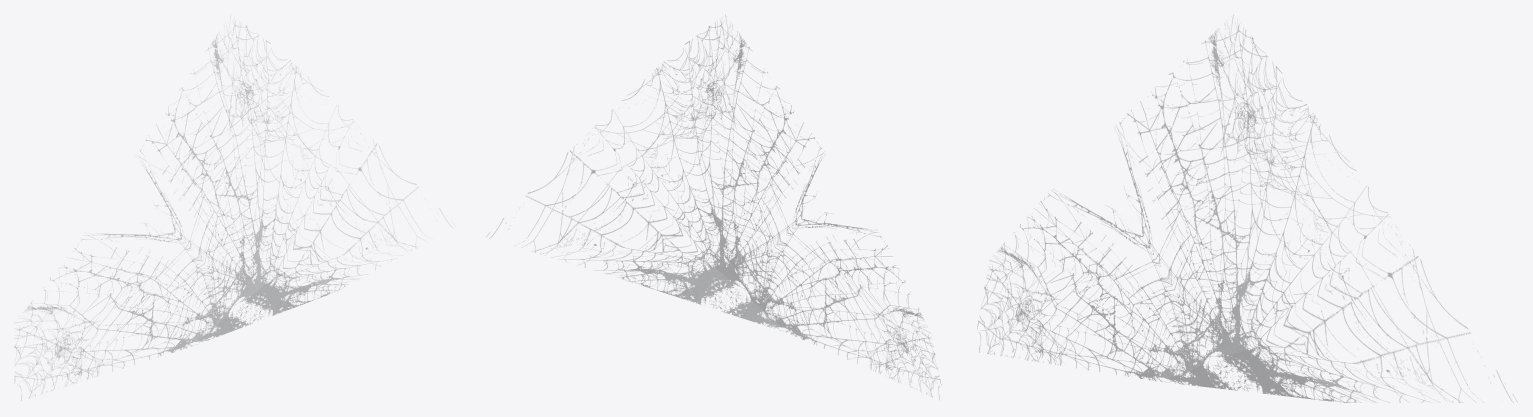
Rendered from SM_CobWeb.009.fbx.
3 renders of one model, left to right at view 1: azimuth 30°, elevation 25°; view 2: azimuth 150°, elevation 25°; view 3: azimuth 330°, elevation 25°, orthographic. The views are drawn at different scales.
Parts seen in each view (by area): view 1: SM_CobWeb.009; view 2: SM_CobWeb.009; view 3: SM_CobWeb.009.
Boxes of the visible parts, x1=… form: SM_CobWeb.009: x1=14, y1=16, x2=454, y2=400; SM_CobWeb.009: x1=486, y1=14, x2=941, y2=399; SM_CobWeb.009: x1=977, y1=15, x2=1517, y2=402.
Bounding box in the file's own units: 1.31 × 0.9343 × 0.0966.
